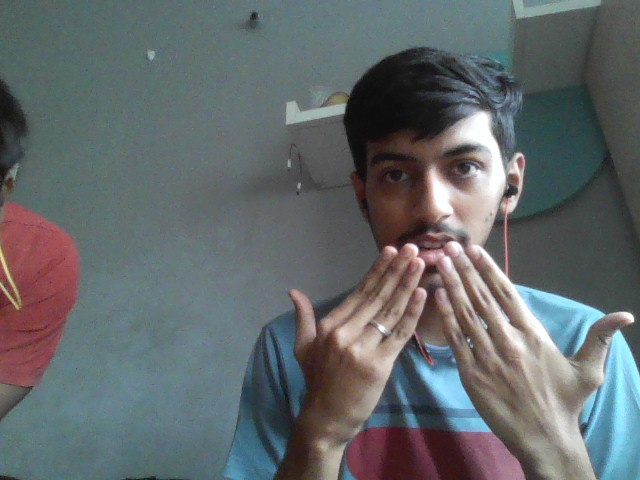Thank You: (276, 237, 637, 444)
